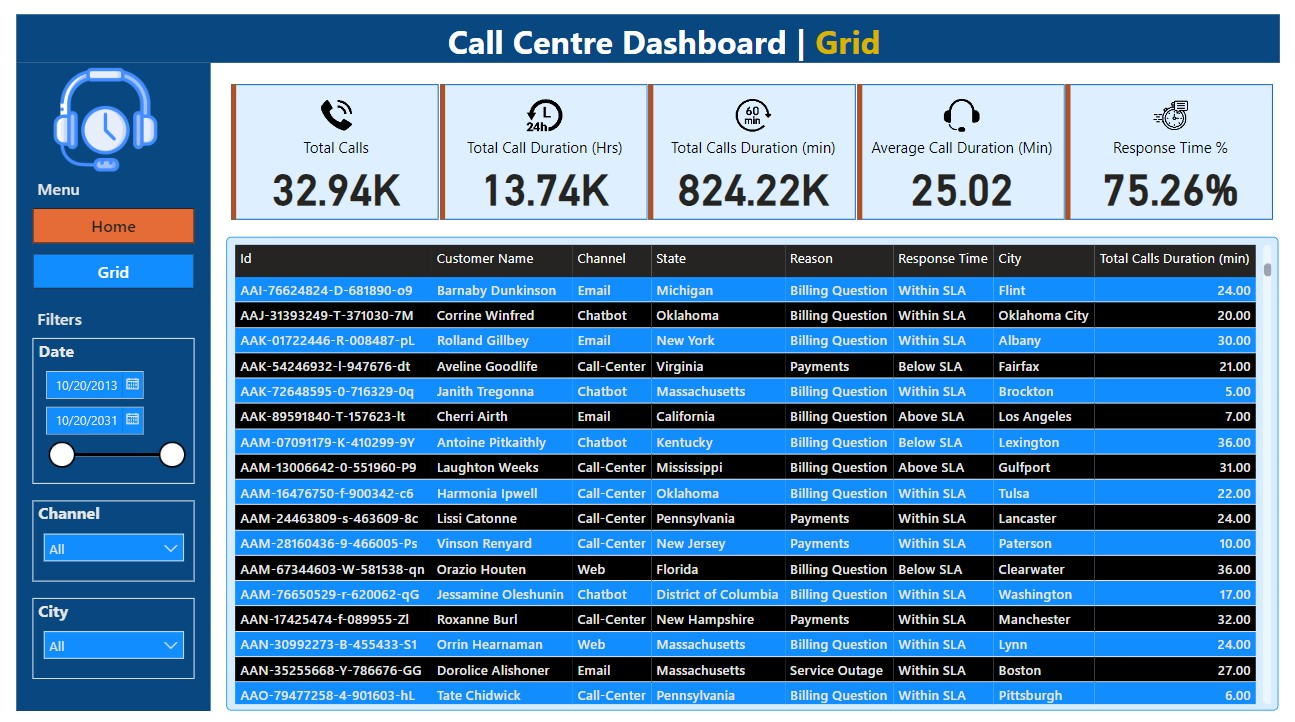

The dashboard page shown, as its layout file describes it:
{"tool":"powerbi","page":{"name":"Grid","canvas":[1280,720],"ordinal":1},"visuals":[{"type":"shape","box":[16,16,1248,48],"z":0},{"type":"shape","box":[16,64,192,640],"z":1000},{"type":"cardVisual","fields":{"Data":["Call Center_Call Center.Total Calls","Call Center_Call Center.Total Call Duration (Hrs)","Call Center_Call Center.Total Calls Duration (min)","Call Center_Call Center.Average Call Duration (Min)","Call Center_Call Center.Response Time %"]},"box":[224,80,1040,144],"z":2000},{"type":"textbox","box":[400,16,512,64],"z":3000},{"type":"slicer","title":"Date","fields":{"Values":["Date Table.Date"]},"box":[32,336,160,144],"z":10000},{"type":"slicer","title":"Channel","fields":{"Values":["Call Center_Call Center.Channel"]},"box":[32,496,160,80],"z":11000},{"type":"slicer","title":"City","fields":{"Values":["Call Center_Call Center.City"]},"box":[32,592,160,80],"z":12000},{"type":"image","box":[48,64,112,112],"z":13000},{"type":"tableEx","fields":{"Values":["Call Center_Call Center.Id","Call Center_Call Center.Customer Name","Call Center_Call Center.Channel","Call Center_Call Center.State","Call Center_Call Center.Reason","Call Center_Call Center.Response Time","Call Center_Call Center.City","Call Center_Call Center.Total Calls Duration (min)"]},"box":[223.5,235.8,1039.5,467.9],"z":13001},{"type":"pageNavigator","box":[32,208,160,80],"z":13002},{"type":"textbox","title":"Menu","box":[32.6,176.1,63.9,31.4],"z":13005},{"type":"textbox","title":"Filters","box":[32.6,305.1,63.9,31.4],"z":13006}]}

Visuals, with their boxes in screenshot pixels (x1, y1, x2, y2), scaled from the page's 1280x720 canvas onto the 1295x722 screenshot:
shape: <box>16,16,1279,64</box>
shape: <box>16,64,210,706</box>
cardVisual - Call Center_Call Center.Total Calls x Call Center_Call Center.Total Call Duration (Hrs): <box>227,80,1279,225</box>
textbox: <box>405,16,923,80</box>
"Date" slicer: <box>32,337,194,481</box>
"Channel" slicer: <box>32,497,194,578</box>
"City" slicer: <box>32,594,194,674</box>
image: <box>49,64,162,176</box>
tableEx - Call Center_Call Center.Id x Call Center_Call Center.Customer Name: <box>226,236,1278,706</box>
pageNavigator: <box>32,209,194,289</box>
"Menu" textbox: <box>33,177,98,208</box>
"Filters" textbox: <box>33,306,98,337</box>
